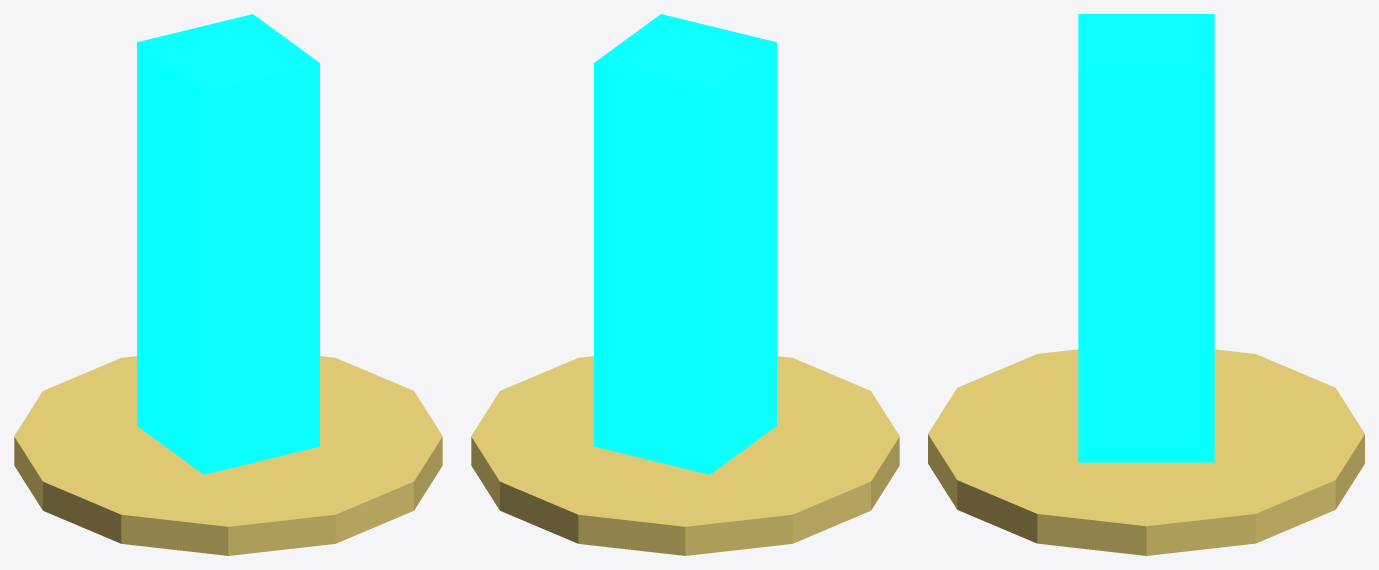
Rendered from generated_model.glb.
3 views of the same model, side by side, from view 1: azimuth 30°, elevation 25°; view 2: azimuth 150°, elevation 25°; view 3: azimuth 270°, elevation 25° (orthographic).
Parts seen in each view (by area): view 1: Cube, Cylinder; view 2: Cube, Cylinder; view 3: Cube, Cylinder.
Part boxes in pixels (x1,y1,x2,y2): Cube: (137,14,319,474); Cylinder: (14,356,442,555); Cube: (594,14,776,474); Cylinder: (471,356,899,555); Cube: (1078,14,1214,462); Cylinder: (928,349,1364,555).
Size of the model in its own units: 1.6 by 1.7 by 1.6.
